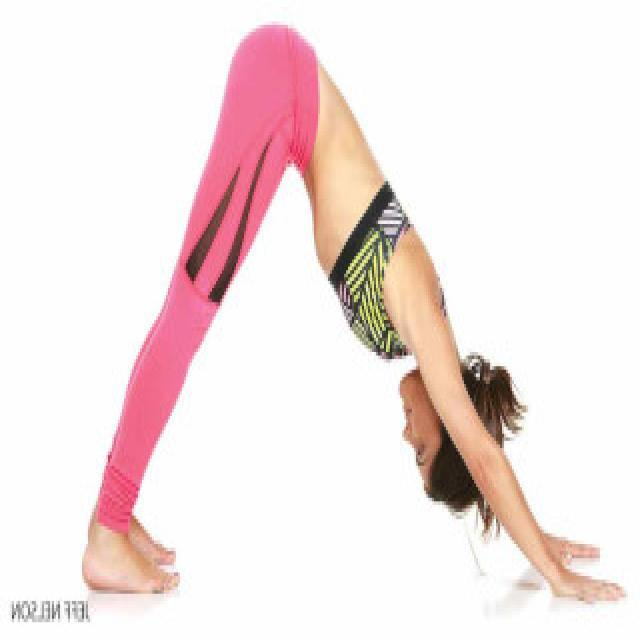yoga-pose downward: (76, 21, 622, 598)
